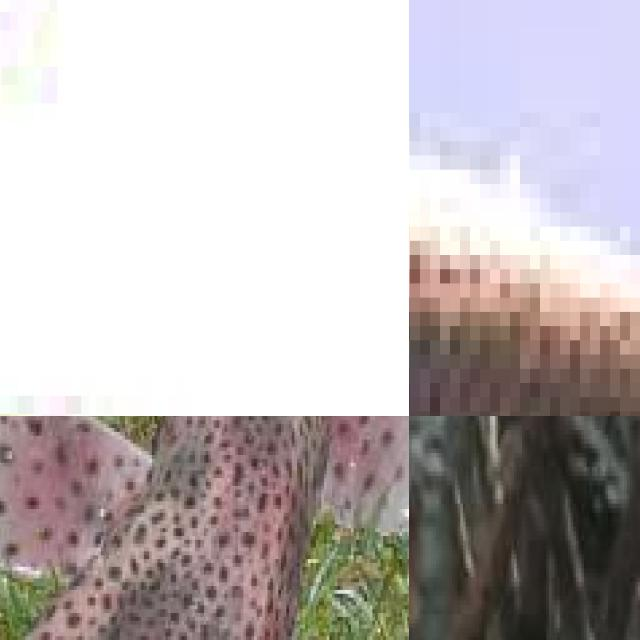fish: (0, 0, 409, 416), (409, 0, 640, 416)
